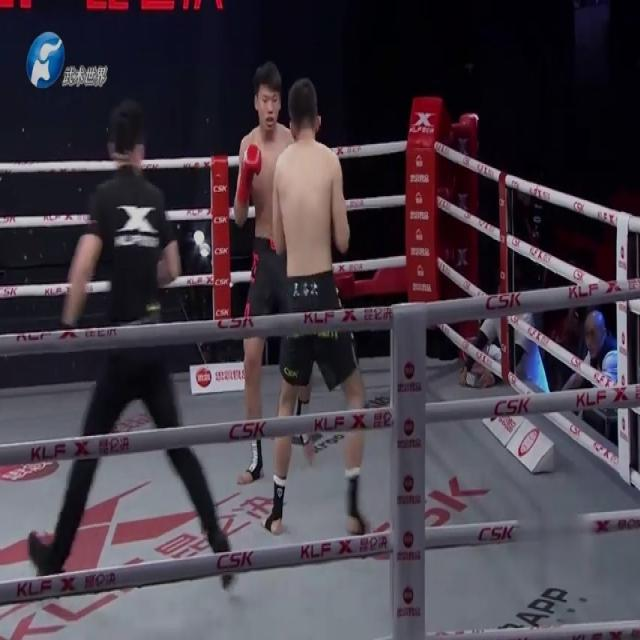fight: (231, 60, 374, 532)
non-fight: (28, 107, 237, 588)
